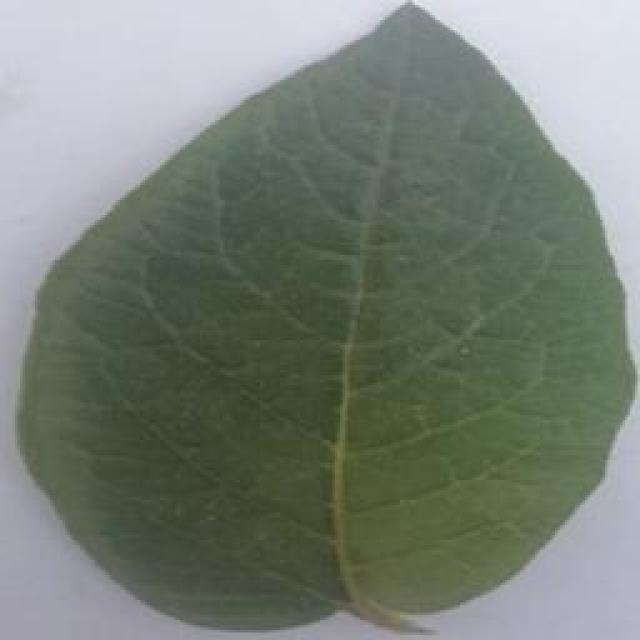Potato_Healthy: (13, 1, 628, 630)
